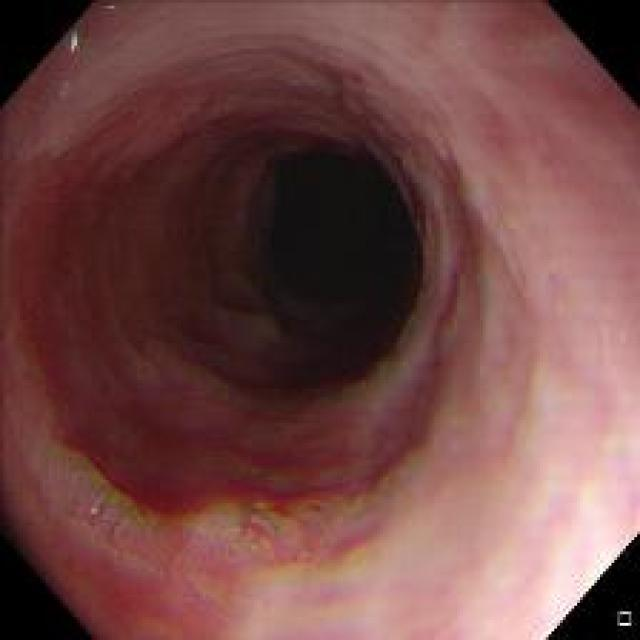bubbles: (51, 78, 78, 109)
color misalignment: (112, 472, 410, 585), (356, 304, 426, 392), (54, 429, 120, 498), (209, 302, 289, 349), (434, 264, 472, 358), (70, 490, 109, 531), (58, 22, 85, 56)
contrast: (180, 135, 420, 392)
saturation: (495, 434, 634, 632)
